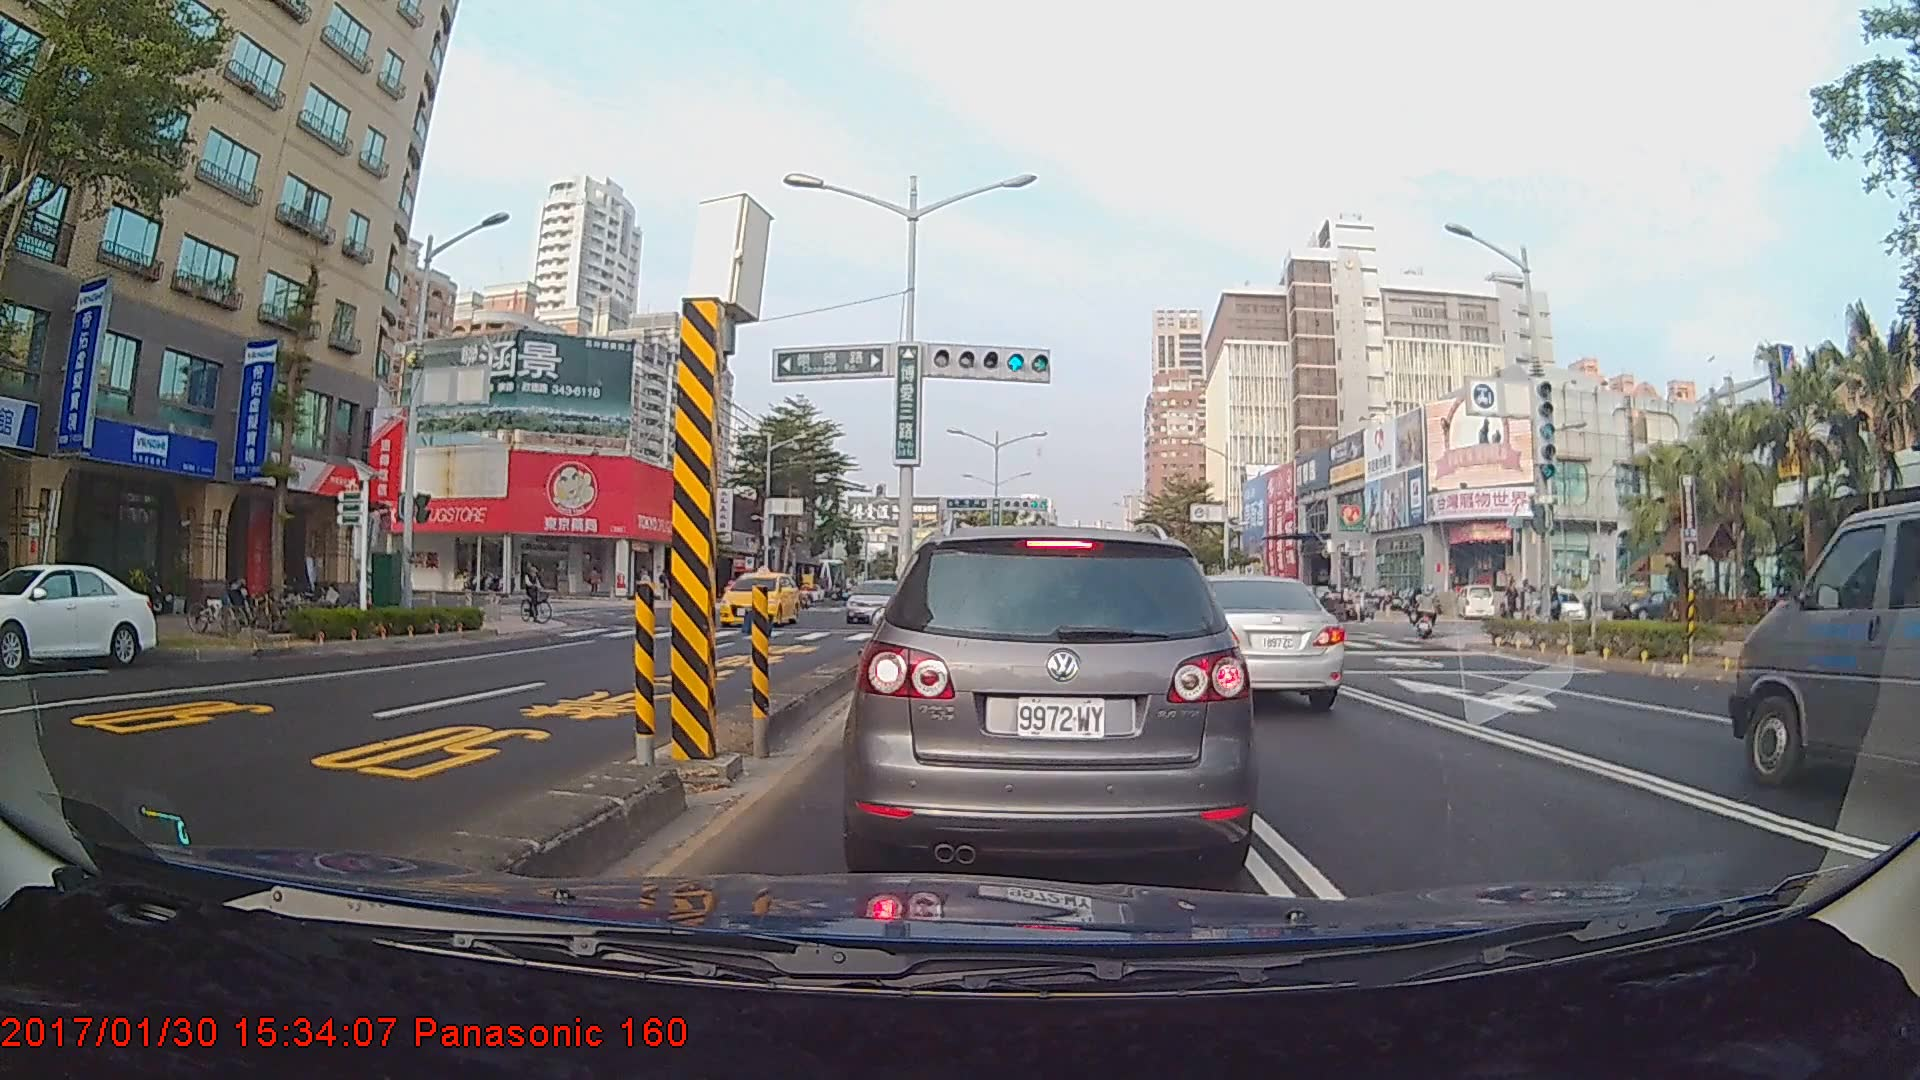rider: (518, 559, 561, 629), (1414, 582, 1442, 640)
vehicle: (853, 525, 1249, 876), (1729, 500, 1919, 804), (1135, 574, 1346, 714), (0, 561, 161, 671), (715, 570, 800, 627), (844, 576, 907, 625)
